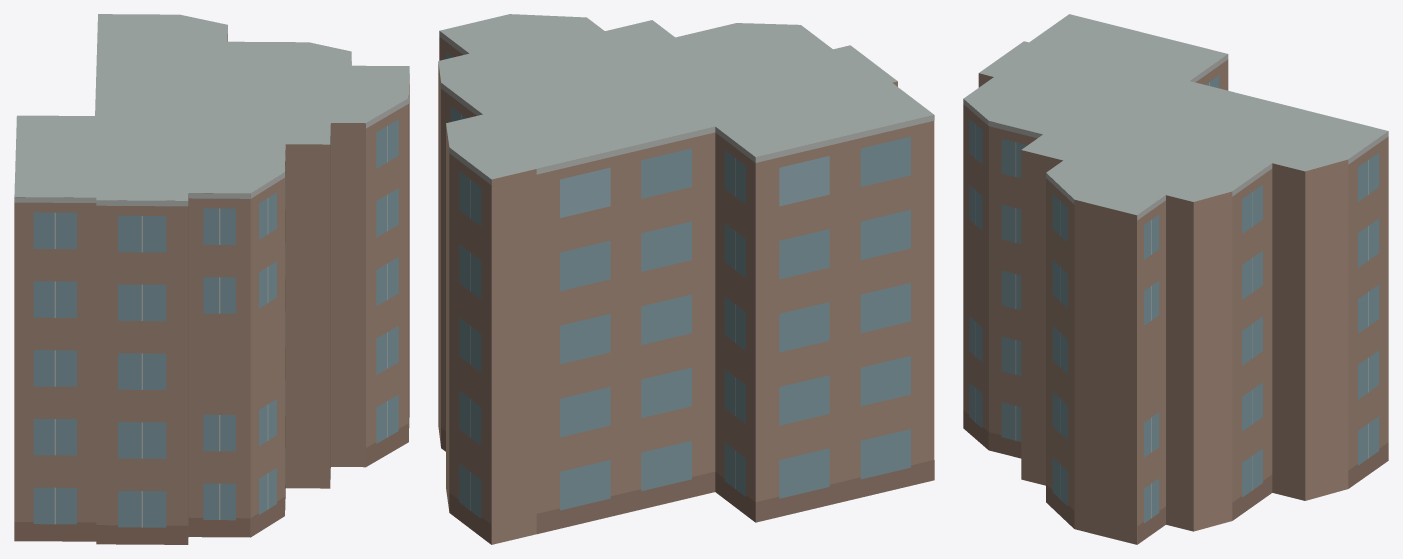
The model's file is survey-upis-32630300.glb.
3 renders of one model, left to right at view 1: azimuth 30°, elevation 25°; view 2: azimuth 150°, elevation 25°; view 3: azimuth 270°, elevation 25°, orthographic. The views are drawn at different scales.
Visible parts, largest first — view 1: survey-upis-32630300.tmp; view 2: survey-upis-32630300.tmp; view 3: survey-upis-32630300.tmp.
Part boxes in pixels (<box>): survey-upis-32630300.tmp: <box>14,14,409,544</box>; survey-upis-32630300.tmp: <box>438,14,934,544</box>; survey-upis-32630300.tmp: <box>963,14,1388,544</box>.
Size of the model in its own units: 19.99 by 15.25 by 17.84.
